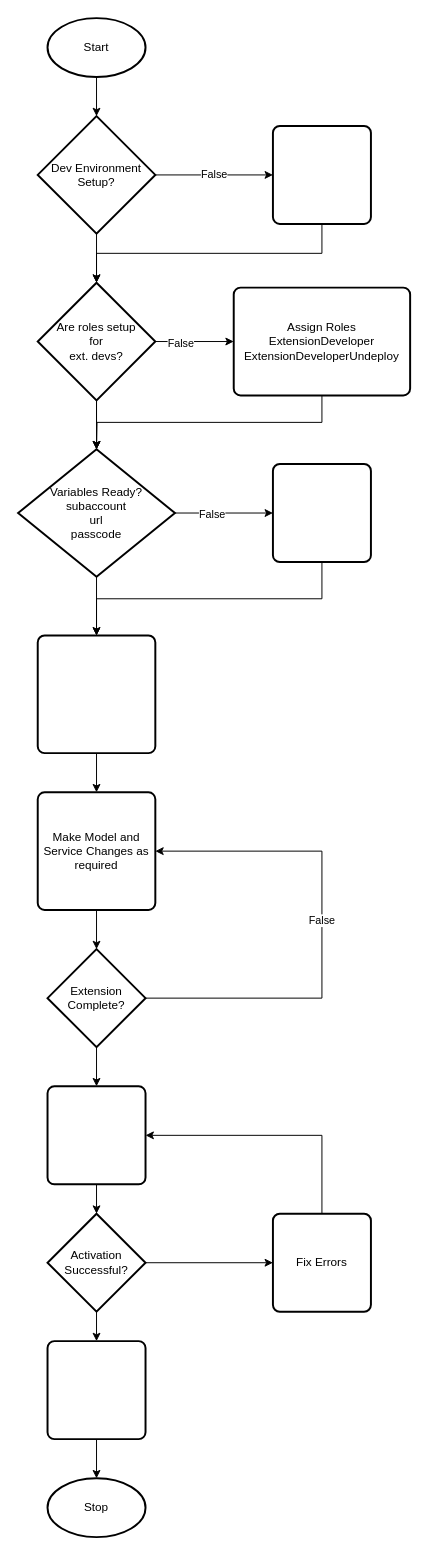
Some shapes in this 427 by 1554 pixel diagram are drawn without their labels. Each missing label, with the centre of its shape:
"Activate Extension CDS Activate" belongs at pixel 96 1135.
"Create extension project CDS extend" belongs at pixel 96 694.
"Get Variables" belongs at pixel 321 513.
"Setup VSCode or BAS" belongs at pixel 321 174.
"View changes calling subaccount Url" belongs at pixel 96 1390.
